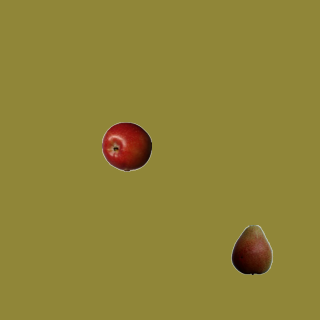Apple Braeburn: (101, 121, 151, 171)
Pear Forelle: (226, 224, 276, 274)
